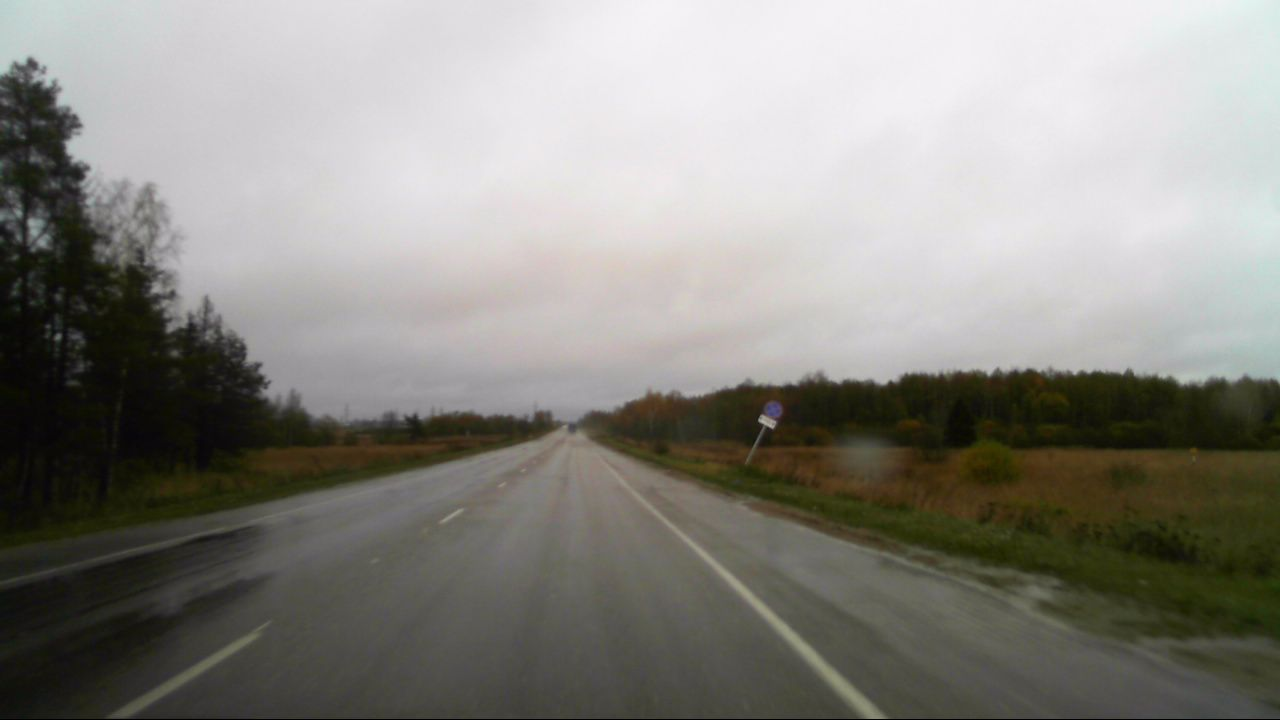No Parking: (763, 399, 785, 418)
